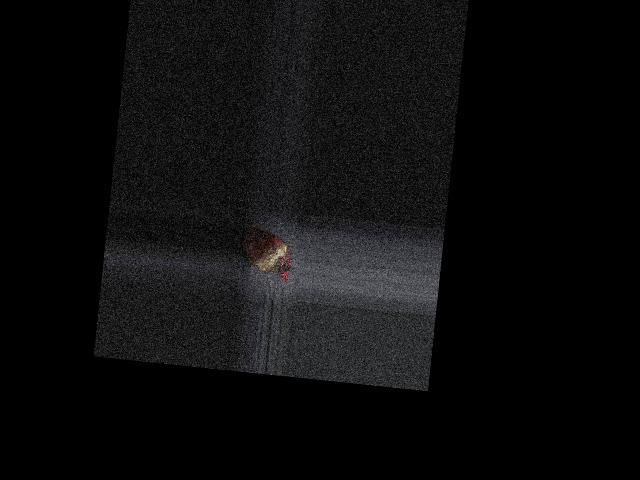beet: (241, 219, 298, 284)
